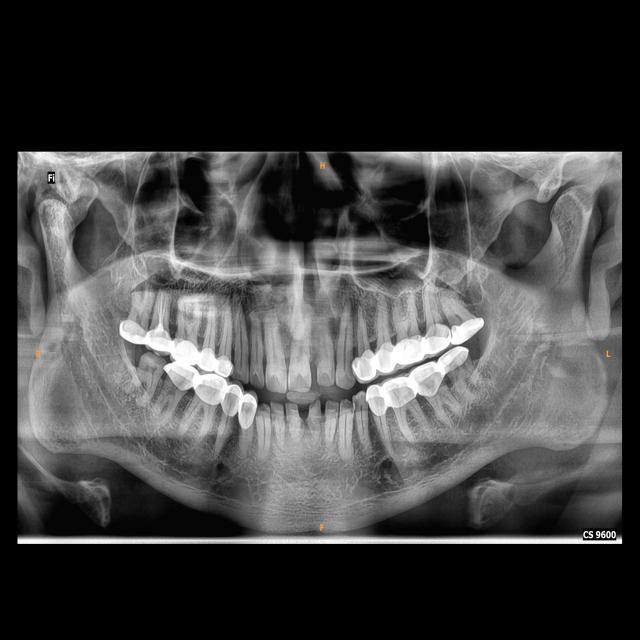kanal-tedavisi: (155, 294, 168, 327)
kaplama: (412, 365, 445, 397), (163, 360, 197, 391), (392, 336, 428, 364), (382, 380, 418, 405), (195, 374, 226, 402), (364, 379, 386, 416), (147, 328, 175, 357), (350, 350, 376, 381), (450, 317, 484, 340), (118, 320, 148, 345), (439, 348, 470, 371), (170, 338, 198, 363), (222, 383, 242, 417), (236, 393, 256, 427), (424, 324, 451, 349), (375, 341, 396, 371), (196, 348, 216, 372), (214, 356, 234, 377)
